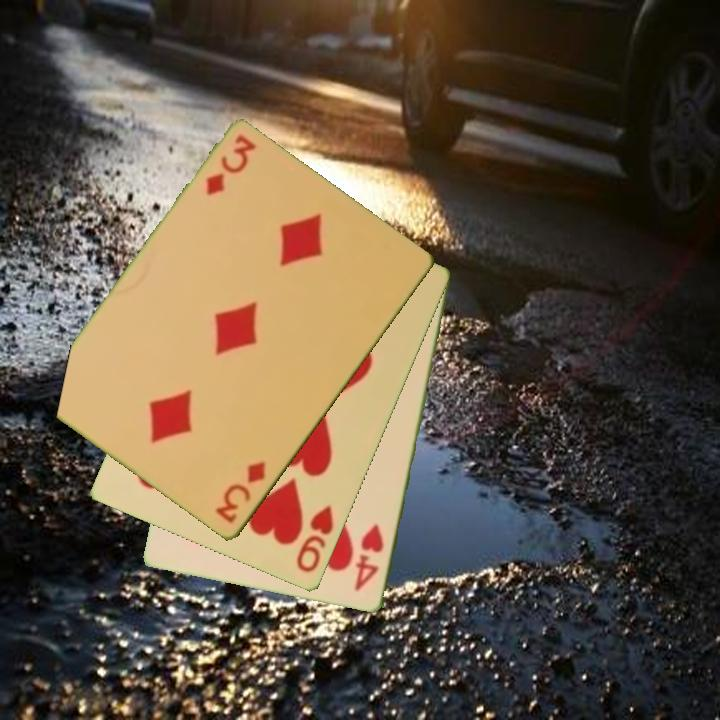3d: (212, 457, 269, 527), (202, 132, 260, 199)
4h: (351, 521, 387, 595)
9h: (293, 501, 337, 576)
